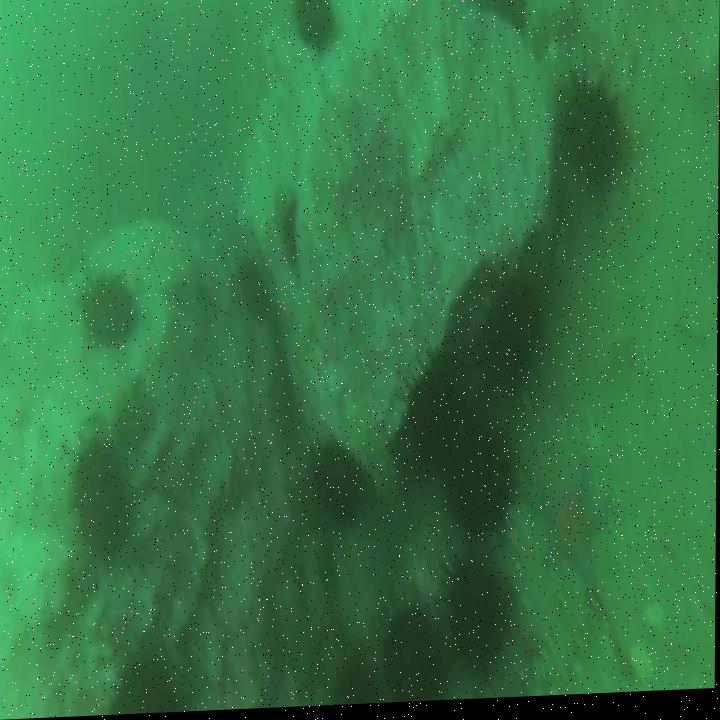echinus: (447, 426, 514, 550), (561, 87, 625, 203), (73, 448, 134, 566), (447, 574, 512, 670), (382, 610, 444, 707), (488, 288, 543, 395), (410, 361, 462, 464), (317, 448, 364, 529), (81, 280, 133, 346), (333, 664, 381, 708), (294, 0, 334, 52)
holothurian: (531, 596, 588, 700)
starfish: (539, 466, 607, 593)
